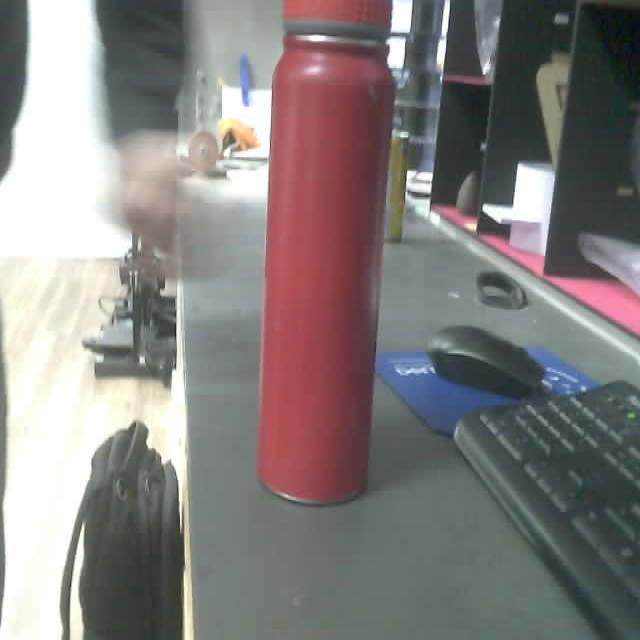water bottle: (253, 0, 395, 508)
